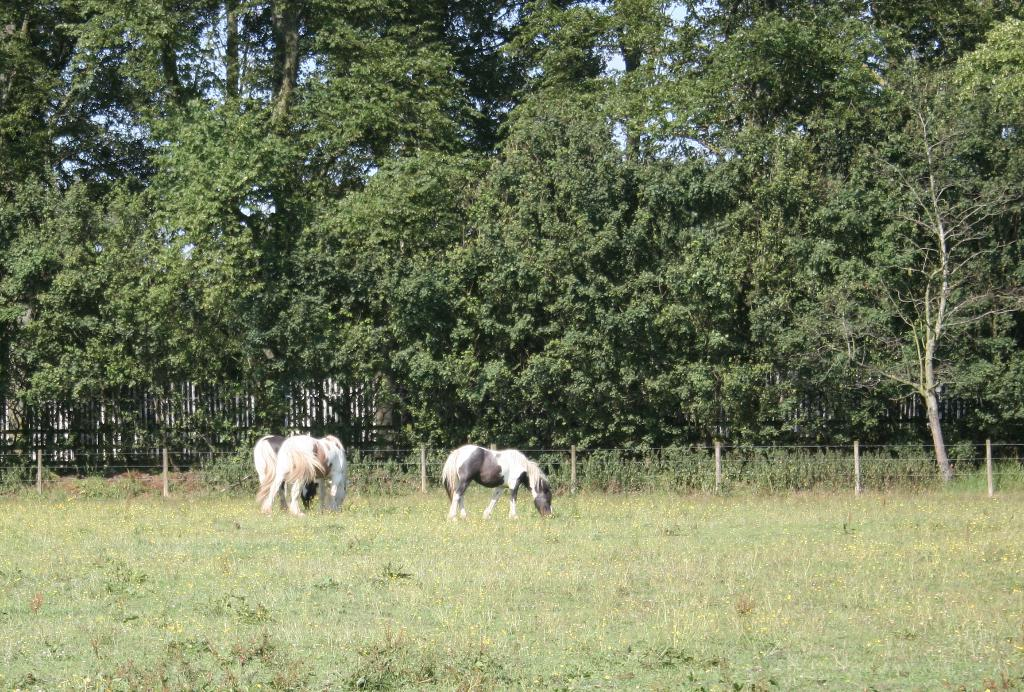horse: (437, 439, 553, 521)
